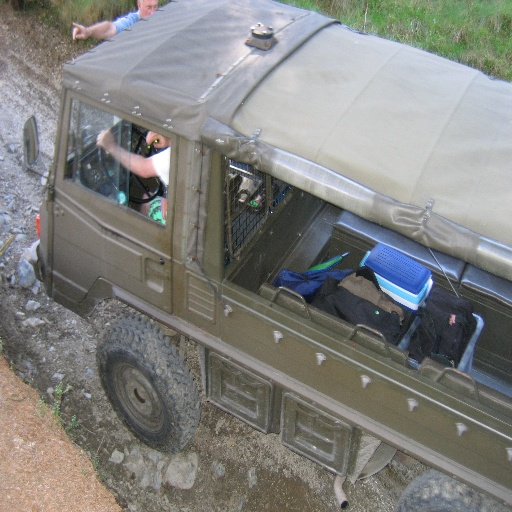hand: (144, 128, 167, 147), (70, 19, 90, 40), (97, 128, 113, 152)
